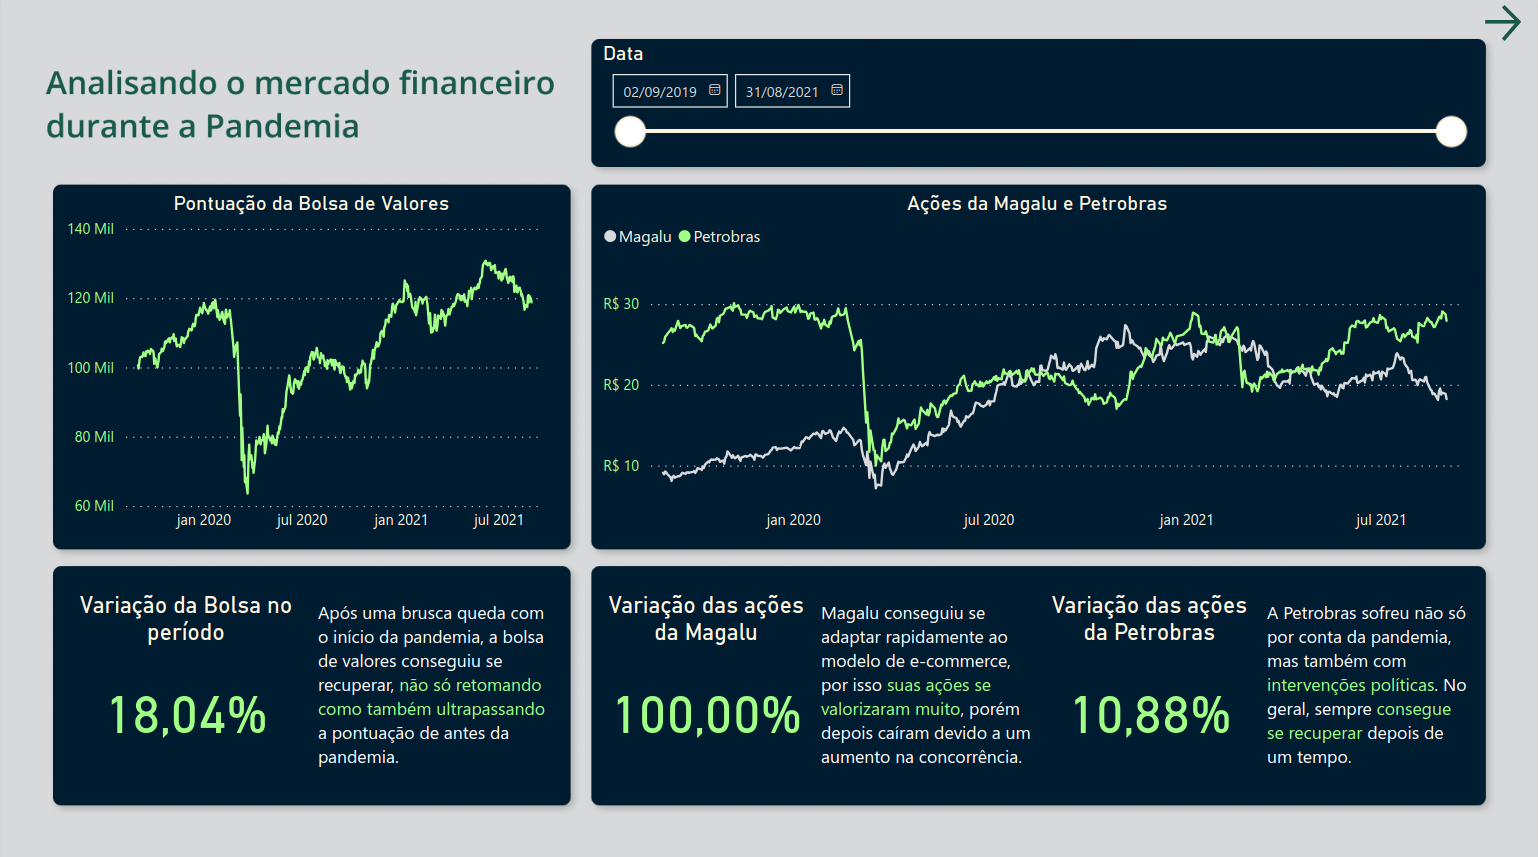

The dashboard page shown, as its layout file describes it:
{"tool":"powerbi","page":{"name":"Bolsa","canvas":[1280,720],"ordinal":0},"visuals":[{"type":"lineChart","title":"Pontuação da Bolsa de Valores","fields":{"Y":["Sum(bolsa.Ibovespa)"],"Category":["bolsa.DATA"]},"box":[49.6,162.3,418.9,289.6],"z":0},{"type":"slicer","title":"Data","fields":{"Values":["bolsa.DATA"]},"box":[496.6,37.9,733.8,96.2],"z":1000},{"type":"lineChart","title":"Ações da Magalu e Petrobras","fields":{"Category":["acoes.DATA"],"Y":["Sum(acoes.Mglu)","Sum(acoes.Petr)"]},"box":[496.6,162.3,733.8,289.6],"z":2000},{"type":"card","title":"Variação das ações da Magalu","fields":{"Values":["Medidas.VariacaoMglu"]},"box":[496.6,495.7,181.7,154.5],"z":3000},{"type":"card","title":"Variação das ações da Petrobras","fields":{"Values":["Medidas.VariacaoPetr"]},"box":[864,495.7,185.6,154.5],"z":4000},{"type":"card","title":"Variação da Bolsa no período","fields":{"Values":["Medidas.VariacaoIbov"]},"box":[49.6,495.7,209.9,154.5],"z":5000},{"type":"textbox","box":[259.5,495.7,208.9,172],"z":6000},{"type":"textbox","box":[678.4,495.7,185.6,172],"z":7000},{"type":"textbox","box":[1049.7,495.7,180.8,172],"z":8000},{"type":"actionButton","box":[1230.4,0,49.6,39.8],"z":9000}]}

Visuals, with their boxes in screenshot pixels (x1, y1, x2, y2), scaled from the page's 1280x720 canvas onto the 1538x857 screenshot:
"Pontuação da Bolsa de Valores" lineChart: pyautogui.locateOnScreen(60, 193, 563, 538)
"Data" slicer: pyautogui.locateOnScreen(597, 45, 1478, 160)
"Ações da Magalu e Petrobras" lineChart: pyautogui.locateOnScreen(597, 193, 1478, 538)
"Variação das ações da Magalu" card: pyautogui.locateOnScreen(597, 590, 815, 774)
"Variação das ações da Petrobras" card: pyautogui.locateOnScreen(1038, 590, 1261, 774)
"Variação da Bolsa no período" card: pyautogui.locateOnScreen(60, 590, 312, 774)
textbox: pyautogui.locateOnScreen(312, 590, 563, 795)
textbox: pyautogui.locateOnScreen(815, 590, 1038, 795)
textbox: pyautogui.locateOnScreen(1261, 590, 1479, 795)
actionButton: pyautogui.locateOnScreen(1478, 0, 1537, 47)
